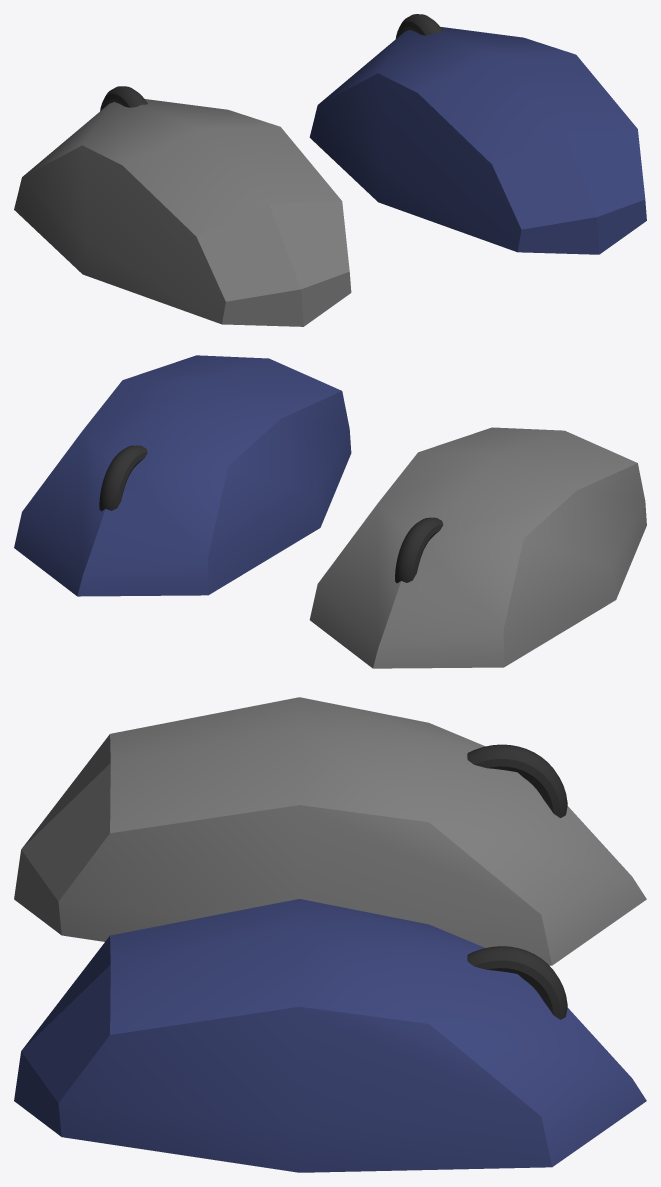
File: Mouse.fbx
3 renders of one model, top to bottom at view 1: azimuth 30°, elevation 25°; view 2: azimuth 150°, elevation 25°; view 3: azimuth 270°, elevation 25°, orthographic. The views are drawn at different scales.
Visible parts, largest first — view 1: Raton, Raton.001; view 2: Raton.001, Raton; view 3: Raton.001, Raton.
Boxes of the visible parts, box(x1,y1,x2,y2) form: Raton: box(14, 86, 351, 326); Raton.001: box(309, 14, 646, 254); Raton.001: box(14, 355, 351, 596); Raton: box(309, 427, 646, 668); Raton.001: box(14, 899, 646, 1172); Raton: box(14, 697, 646, 965).
Bounding box in the file's own units: 227 × 50 × 167.
